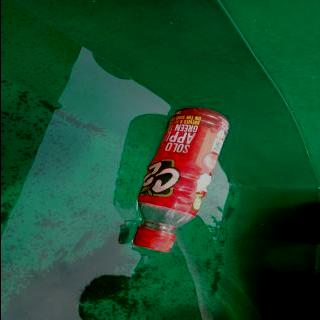bottle: (131, 107, 231, 253)
